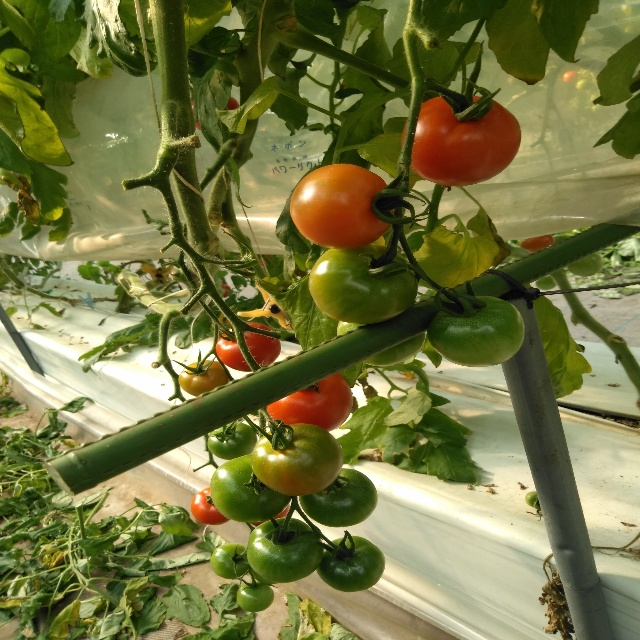l_fully_ripened: (401, 96, 521, 188), (268, 372, 353, 432), (215, 321, 281, 372), (191, 487, 230, 525)
l_green: (308, 243, 418, 325), (429, 295, 525, 367), (210, 454, 293, 523), (338, 306, 427, 367), (246, 517, 323, 583), (298, 468, 378, 528), (316, 536, 386, 592), (208, 421, 257, 461), (210, 543, 251, 580), (235, 581, 274, 612)
l_half_ripened: (289, 163, 393, 250), (251, 423, 343, 496), (178, 360, 231, 398)
